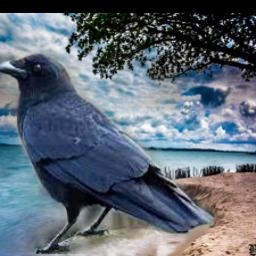Crow: (0, 53, 215, 255)
